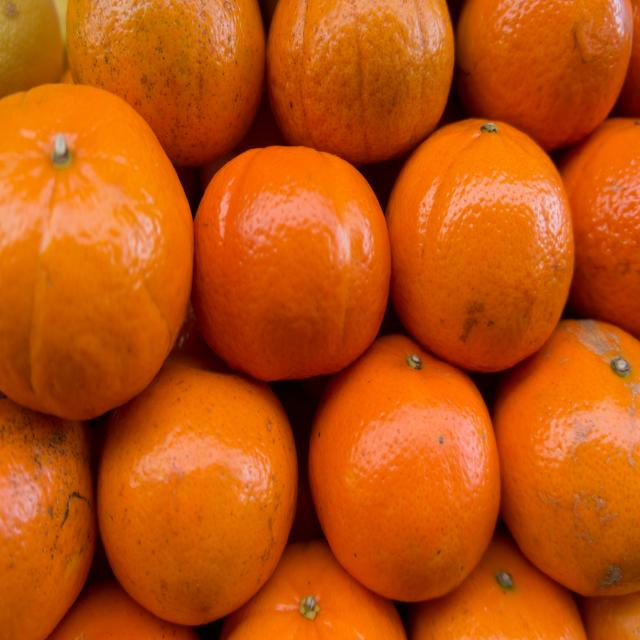tangerine: (0, 84, 195, 423), (95, 354, 301, 629), (309, 315, 502, 606), (385, 119, 576, 376), (191, 147, 392, 384), (491, 318, 640, 601), (65, 0, 268, 174), (266, 0, 457, 166), (451, 0, 635, 154), (0, 395, 99, 640), (400, 531, 589, 640), (550, 116, 640, 339), (221, 546, 408, 640)
